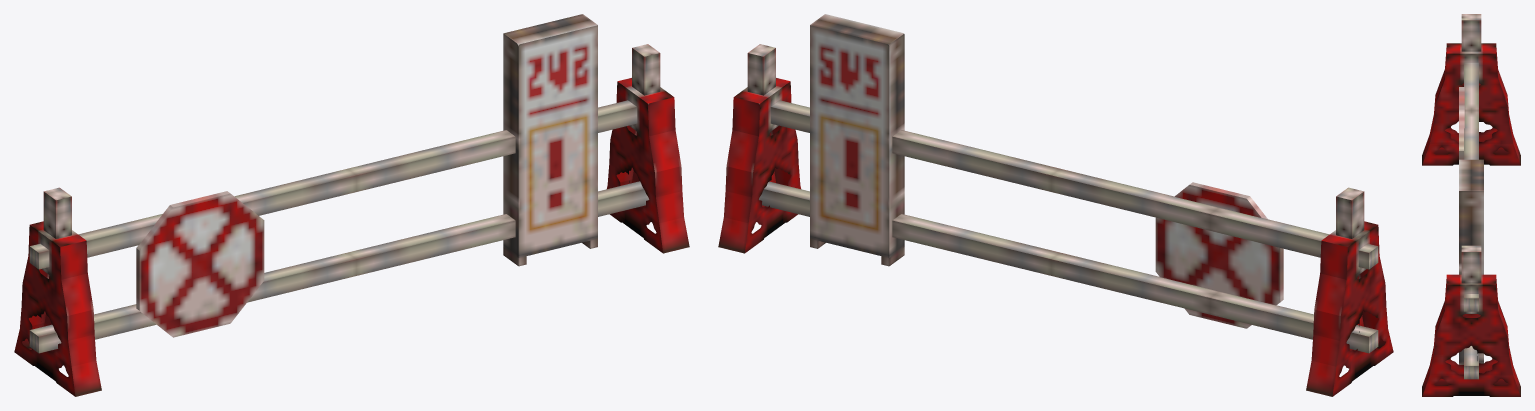
The model's file is Poly_SF_Outside_B_Bar_01.obj.
3 views of the same model, side by side, from view 1: azimuth 30°, elevation 25°; view 2: azimuth 150°, elevation 25°; view 3: azimuth 270°, elevation 25° (orthographic). The views are drawn at different scales.
Parts seen in each view (by area): view 1: Cube.007, Cube.005, Cube.003, Cube.006, Cube.010; view 2: Cube.005, Cube.007, Cube.003, Cube.006, Cube.010; view 3: Cube.003, Cube.007, Cube.005, Cube.010, Cube.006.
Boxes of the visible parts, <box> form: Cube.007: <box>503,14,597,257</box>; Cube.005: <box>29,100,649,353</box>; Cube.003: <box>14,78,689,396</box>; Cube.006: <box>136,191,264,337</box>; Cube.010: <box>43,44,660,238</box>; Cube.005: <box>759,100,1378,353</box>; Cube.007: <box>810,14,904,257</box>; Cube.003: <box>718,78,1393,396</box>; Cube.006: <box>1155,182,1283,328</box>; Cube.010: <box>747,44,1364,238</box>; Cube.003: <box>1422,43,1520,396</box>; Cube.007: <box>1459,159,1483,363</box>; Cube.005: <box>1464,62,1478,379</box>; Cube.010: <box>1461,14,1481,283</box>; Cube.006: <box>1459,87,1464,159</box>.
Size of the model in its own units: 2.4 by 0.8 by 0.4.
1 material, 1 textured.
